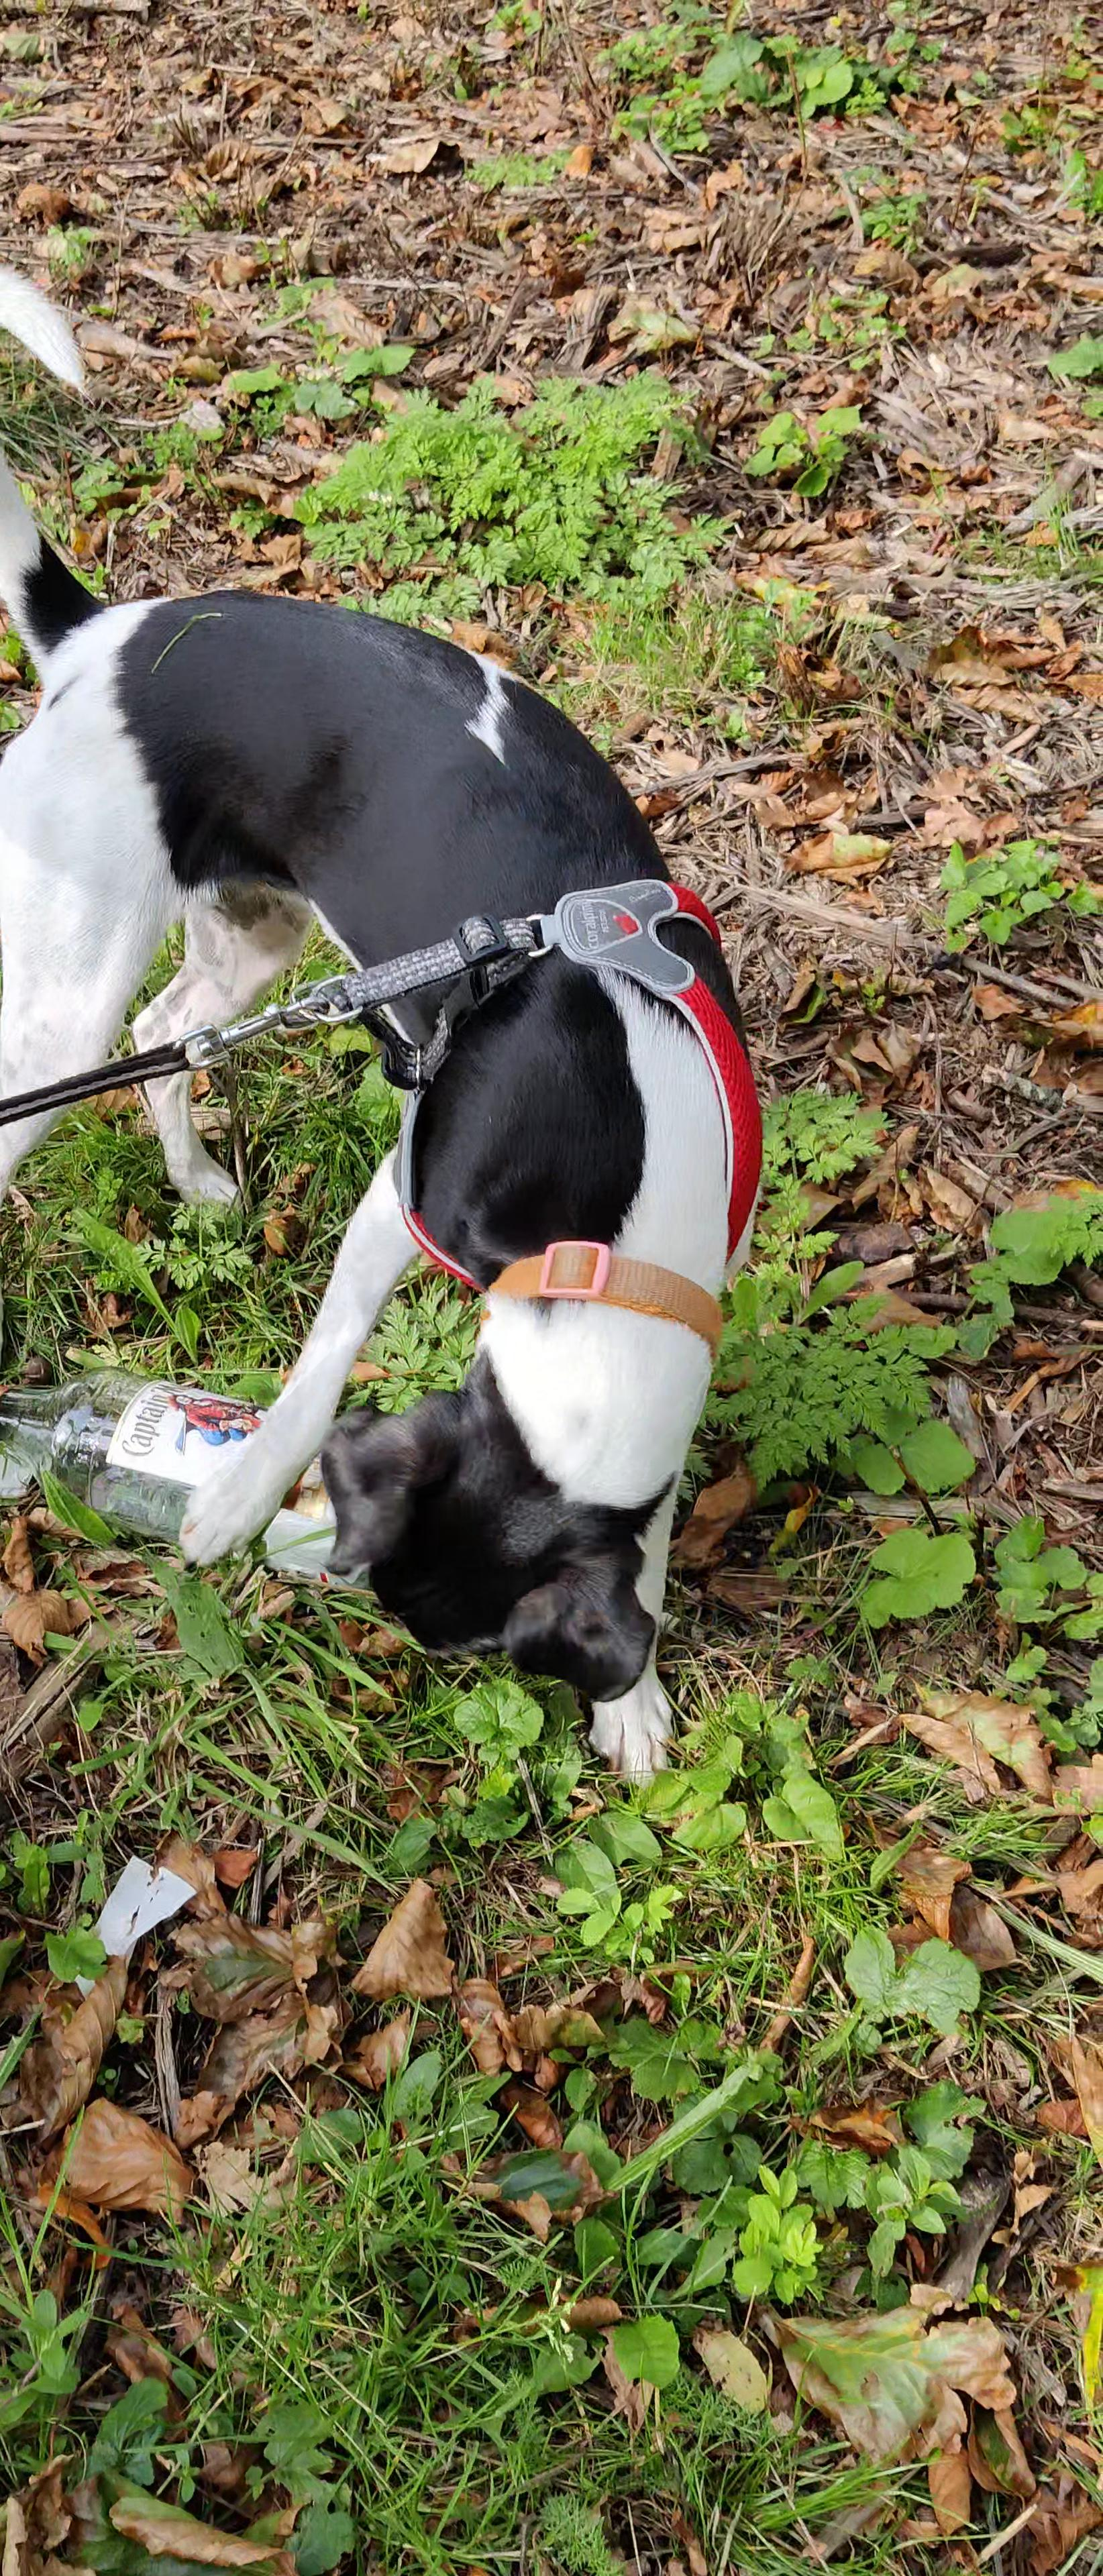Dog: (0, 233, 784, 1801)
